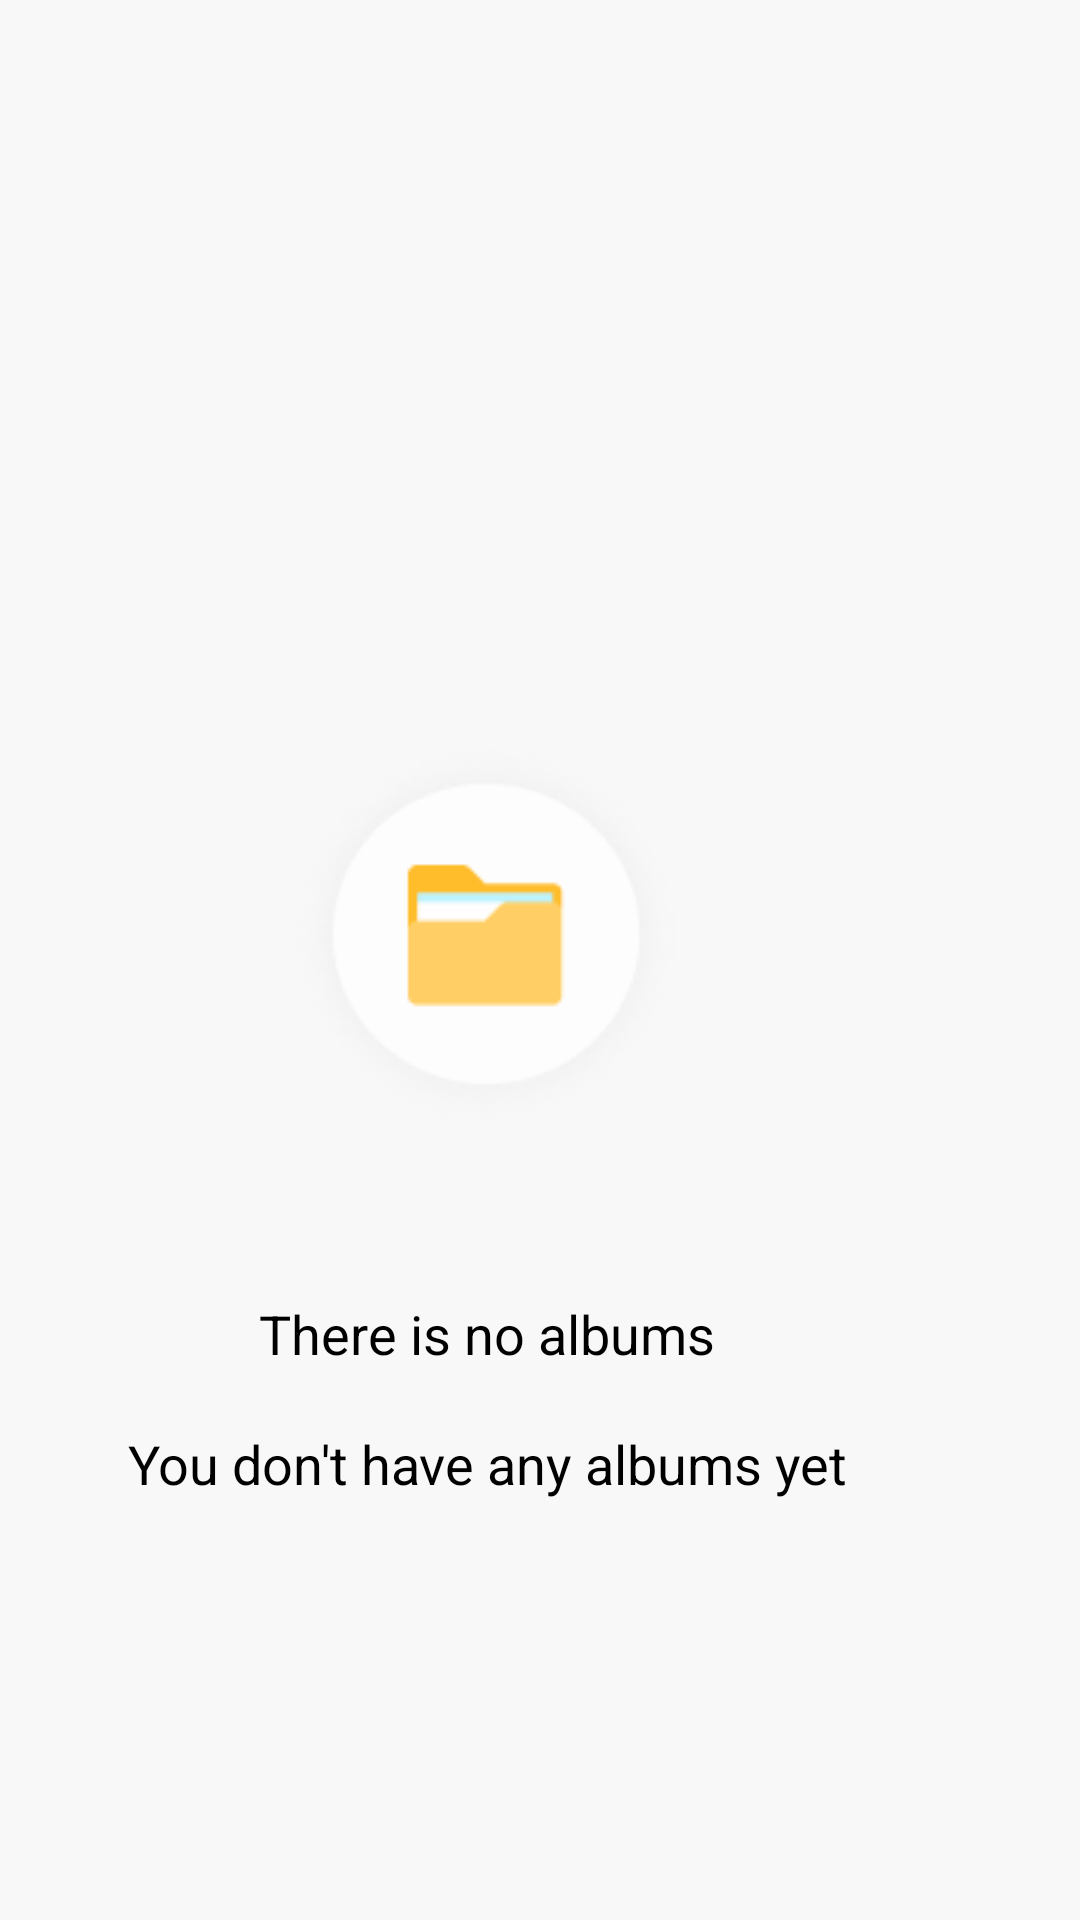

Where to tap for icons on this 1080px×1920px app screen, as (x,y):
folder: (485,935)
